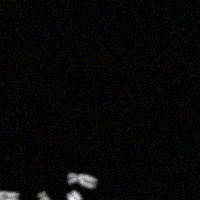chromosome: (66, 173, 97, 189), (0, 184, 21, 200), (37, 190, 55, 200), (67, 191, 85, 200)
